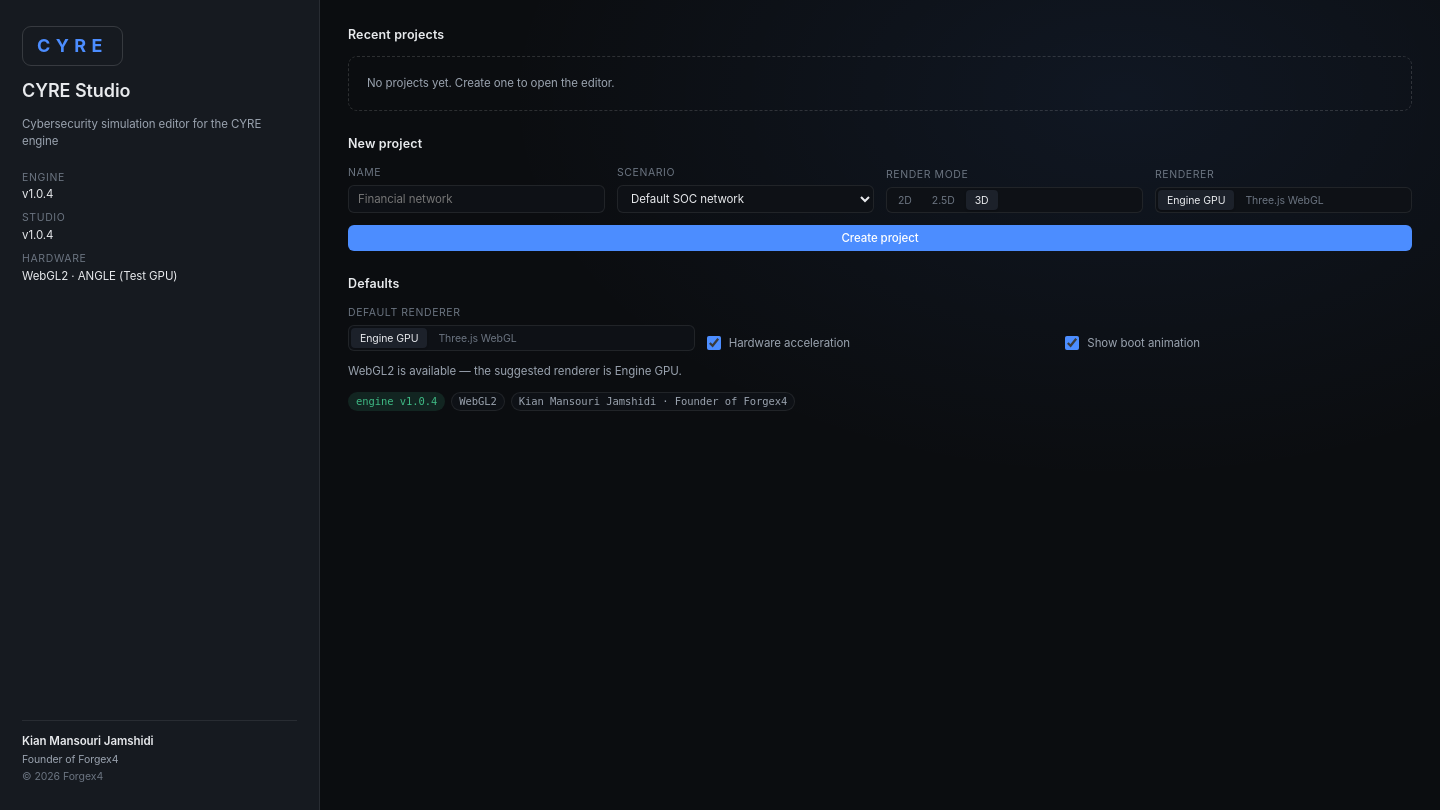
Test: LauncherApp › creates a project from the form and lists it
Type "Financial Network" into the field with test id "launcher-new-name" at (476, 199), box [348,185,605,213]
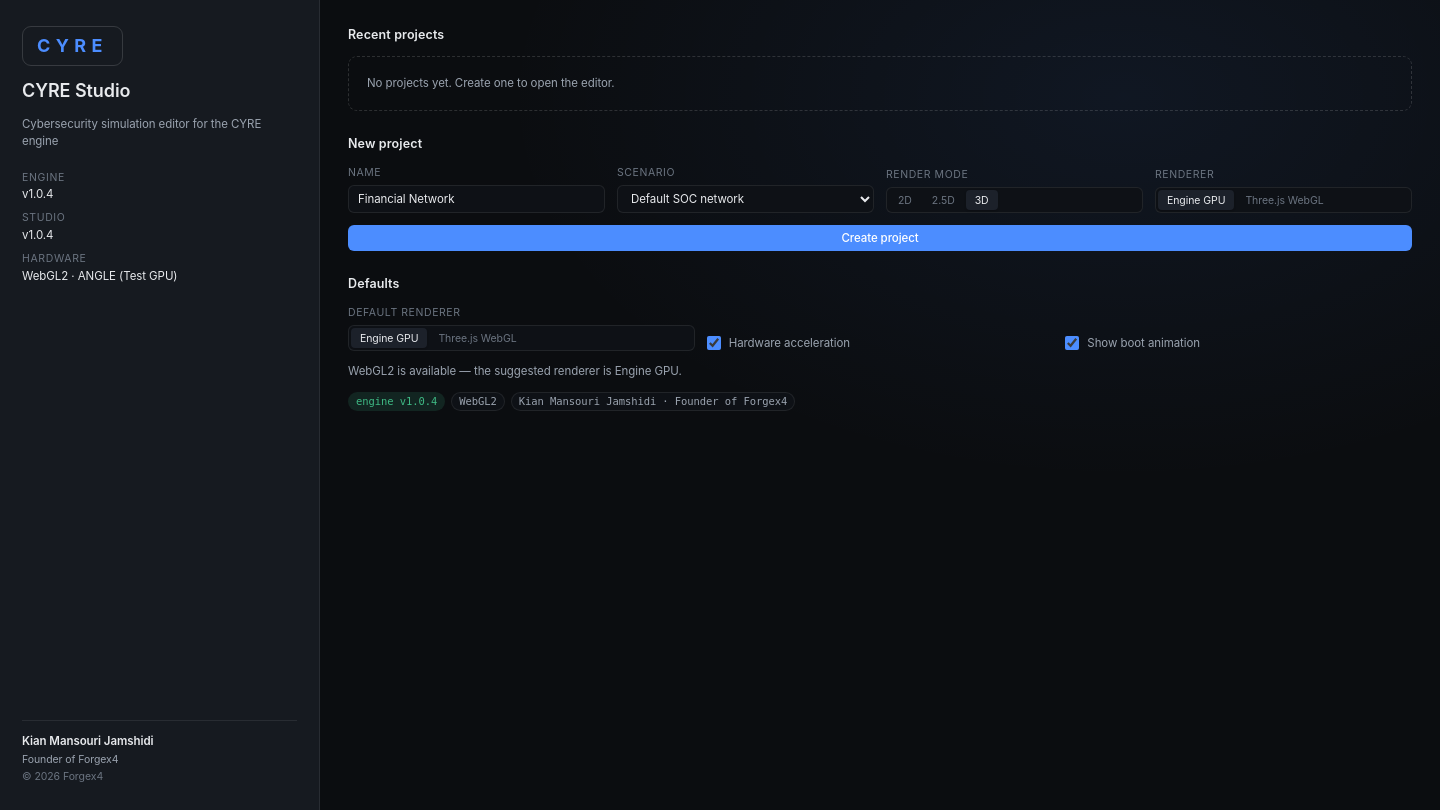
Click the button with test id "launcher-create" at (880, 238), box [348,225,1412,251]
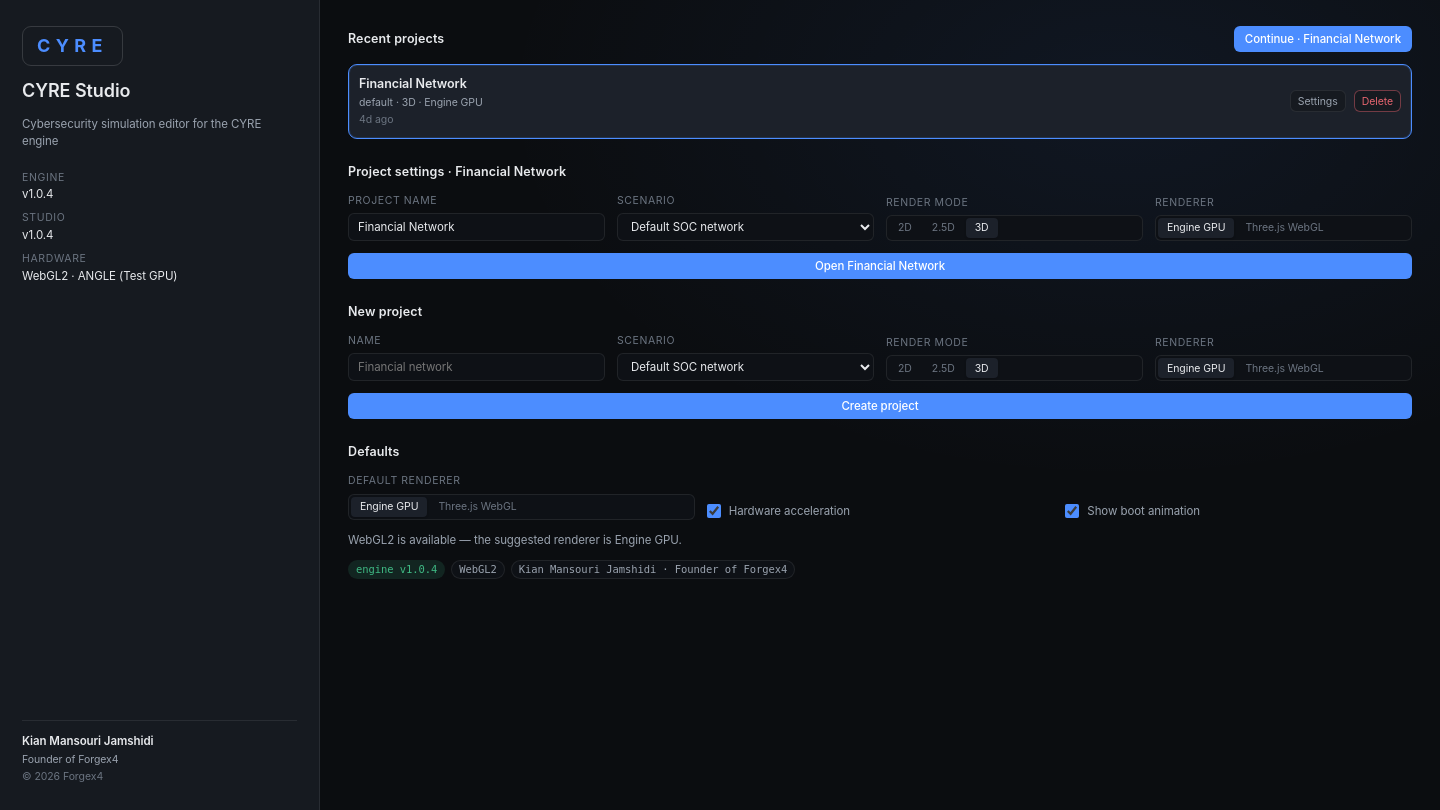
expect the text with test id "launcher-empty" is gone: met
expect the text "Financial Network" is shown: met, box [359,75,467,93]
